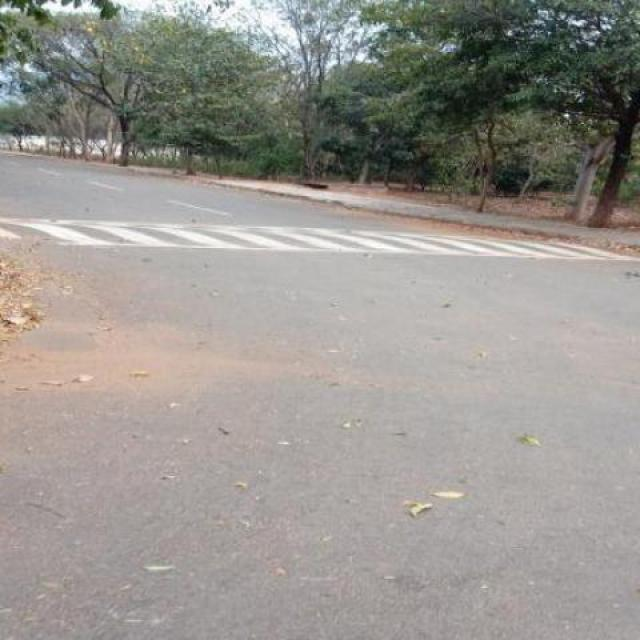Speed Bump: (0, 212, 639, 264)
